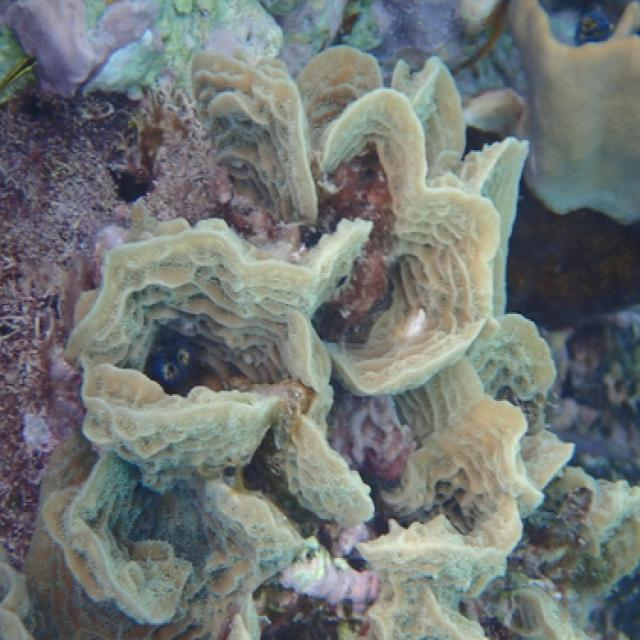Coral: (24, 45, 640, 640), (0, 538, 35, 640)
